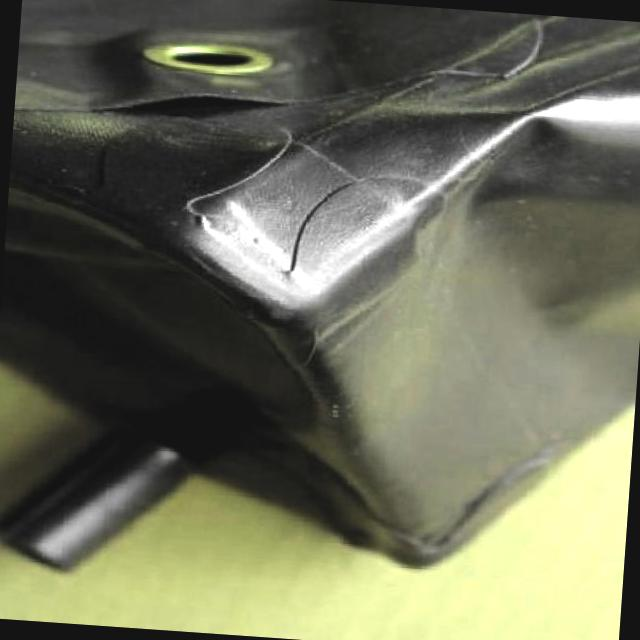crack: (282, 180, 346, 270)
